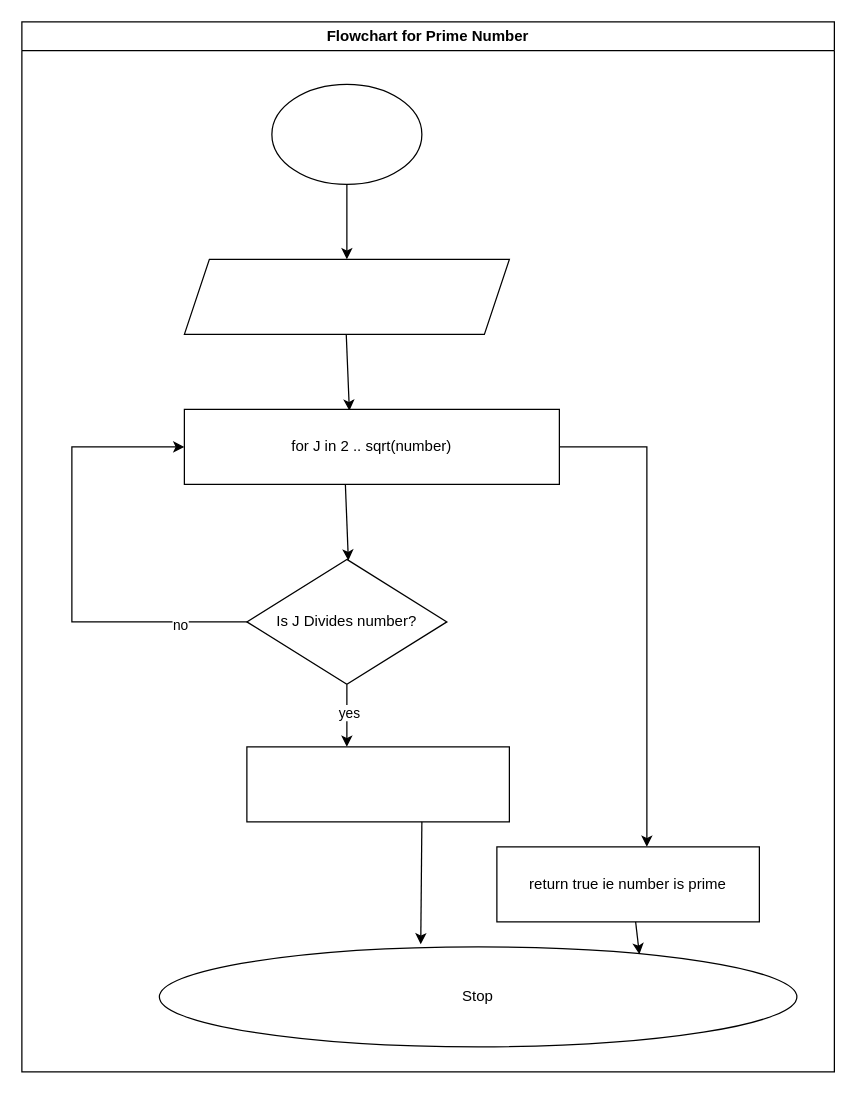
Image size: 856x1094. Some labels were removed from this diagram. Here are the shapes that lost their labels. From the top down, the centre of each, then its label:
At point 346,133: "Start".
At point 346,296: "Enter number".
At point 377,784: "return false ie not a prime".
